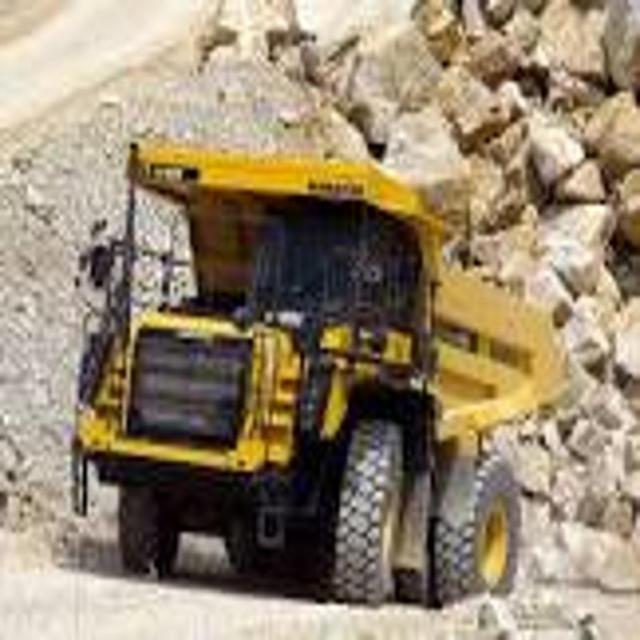dump_truck: (59, 123, 572, 608)
